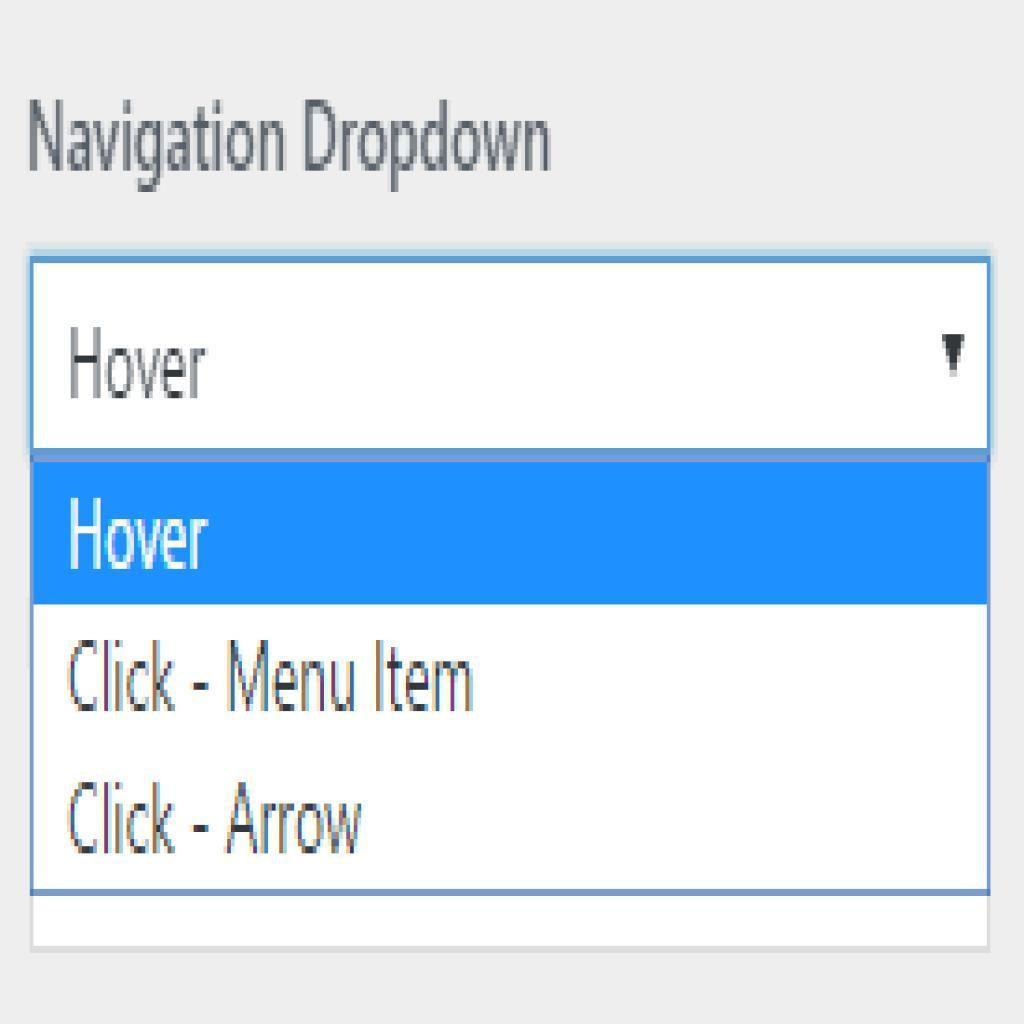dropdown: (39, 261, 988, 453)
